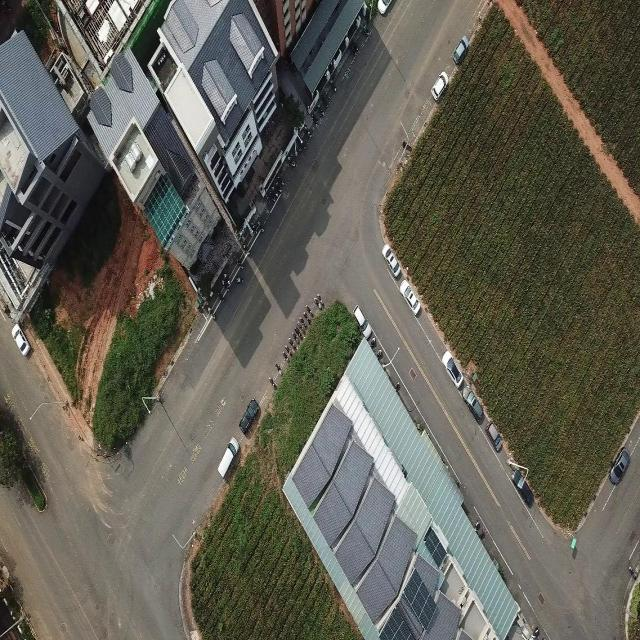bike: (288, 155, 298, 170), (478, 526, 486, 542), (316, 103, 325, 117), (329, 80, 338, 93), (304, 125, 313, 138), (216, 289, 224, 303), (312, 112, 320, 126), (281, 350, 290, 362), (251, 222, 258, 237), (474, 518, 481, 533), (305, 304, 313, 317), (314, 296, 322, 309), (224, 273, 232, 286), (352, 39, 360, 52), (243, 242, 250, 256), (292, 332, 300, 344), (300, 316, 308, 328), (302, 311, 310, 323), (221, 279, 229, 291), (274, 180, 282, 192), (362, 24, 370, 36), (534, 624, 540, 640), (265, 193, 272, 206), (272, 185, 279, 198), (288, 338, 296, 349), (294, 328, 302, 339), (324, 91, 332, 102), (275, 363, 282, 375), (285, 344, 292, 356), (236, 257, 243, 269), (269, 192, 276, 204), (258, 220, 264, 233), (269, 377, 276, 388), (318, 294, 324, 306), (234, 276, 243, 284), (297, 322, 304, 332), (370, 337, 376, 348), (377, 349, 382, 359)
car: (217, 437, 239, 480), (512, 469, 534, 508), (462, 385, 483, 420), (443, 351, 463, 387), (401, 279, 421, 314), (353, 304, 371, 341), (240, 397, 258, 433), (611, 449, 629, 484), (382, 243, 401, 276), (12, 324, 30, 356), (431, 72, 448, 101), (486, 422, 502, 450), (453, 35, 468, 63), (378, 0, 396, 15)
